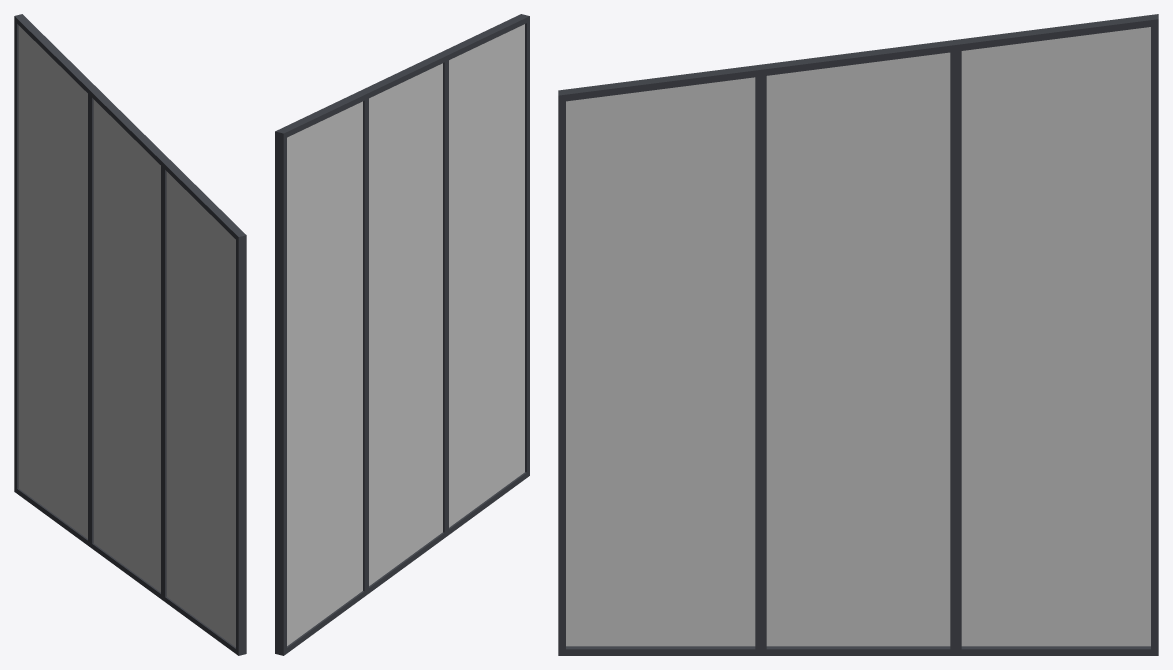
The model's file is polycarb_clear.glb.
3 renders of one model, left to right at view 1: azimuth 30°, elevation 25°; view 2: azimuth 150°, elevation 25°; view 3: azimuth 270°, elevation 25°, orthographic. The views are drawn at different scales.
Parts seen in each view (by area): view 1: sidewall_left_polycarb_400_250; view 2: sidewall_left_polycarb_400_250; view 3: sidewall_left_polycarb_400_250.
Boxes of the visible parts, x1=… form: sidewall_left_polycarb_400_250: x1=14, y1=14, x2=246, y2=655; sidewall_left_polycarb_400_250: x1=275, y1=14, x2=529, y2=655; sidewall_left_polycarb_400_250: x1=558, y1=14, x2=1158, y2=655.
Size of the model in its own units: 0.05 by 2.85 by 2.44.
2 materials, 1 textured.
